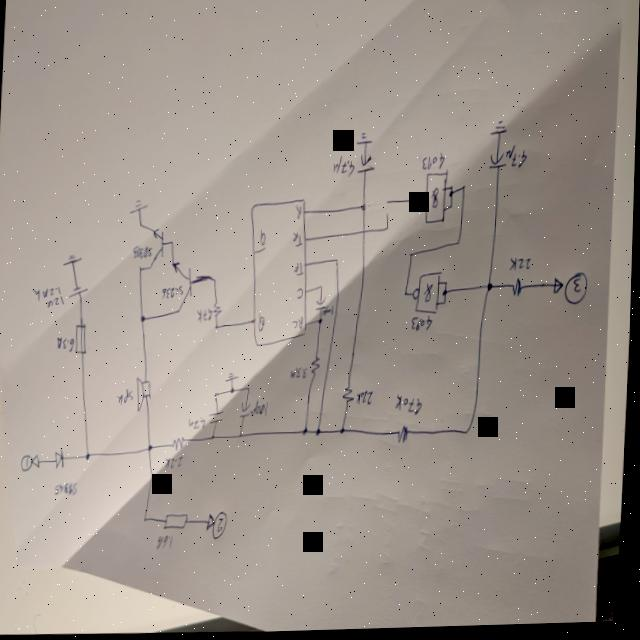capacitor: (358, 155, 376, 178), (489, 155, 508, 173), (210, 411, 226, 426), (242, 403, 253, 421), (317, 298, 328, 315)
crossover: (362, 230, 368, 240)
diode: (56, 448, 68, 472)
ground: (130, 200, 150, 216), (64, 253, 85, 268), (490, 123, 508, 140), (356, 134, 374, 150), (227, 374, 242, 384)
junction: (464, 418, 479, 441), (488, 284, 495, 296), (362, 205, 369, 215), (142, 315, 148, 326), (88, 452, 94, 462), (318, 429, 324, 439), (342, 429, 348, 439), (306, 429, 312, 439), (231, 388, 237, 396), (462, 186, 467, 195), (140, 266, 145, 275), (405, 293, 410, 301), (150, 445, 155, 453), (214, 278, 219, 286), (320, 320, 325, 328), (445, 290, 449, 300), (337, 259, 341, 268), (214, 436, 219, 443), (387, 227, 391, 235), (216, 393, 220, 401), (458, 242, 462, 250), (171, 240, 175, 248), (411, 254, 415, 262), (242, 434, 246, 442), (140, 223, 144, 231), (450, 193, 454, 201), (321, 285, 325, 293), (147, 518, 151, 525), (387, 202, 391, 209), (249, 387, 253, 394), (216, 326, 220, 332), (451, 187, 454, 193), (451, 207, 454, 212), (445, 304, 448, 309), (447, 284, 450, 288)
resistor: (167, 514, 191, 532), (399, 427, 412, 449), (312, 358, 323, 382), (513, 280, 525, 302), (173, 438, 188, 454), (344, 388, 357, 406), (214, 303, 224, 319)
source: (70, 285, 90, 300)
terminal: (554, 279, 566, 301), (33, 455, 43, 473), (210, 514, 218, 534)
text: (565, 275, 591, 311), (397, 396, 426, 421), (333, 156, 357, 183), (506, 147, 528, 173), (33, 286, 64, 304), (215, 512, 231, 543), (423, 154, 446, 174), (57, 481, 81, 499), (412, 319, 435, 336), (511, 258, 533, 275), (163, 286, 186, 302), (58, 336, 77, 354), (358, 392, 377, 410), (252, 401, 271, 419), (159, 534, 176, 552), (119, 389, 136, 407), (168, 455, 186, 472), (134, 246, 154, 261), (198, 308, 214, 326), (190, 418, 209, 433), (292, 368, 310, 383), (48, 296, 66, 310), (23, 453, 35, 473), (293, 233, 304, 250), (295, 263, 305, 279), (294, 320, 306, 333), (324, 307, 336, 320), (260, 316, 268, 335), (261, 230, 268, 249), (296, 206, 304, 222), (298, 290, 306, 303)
transistor: (171, 262, 196, 316), (149, 228, 167, 271)
